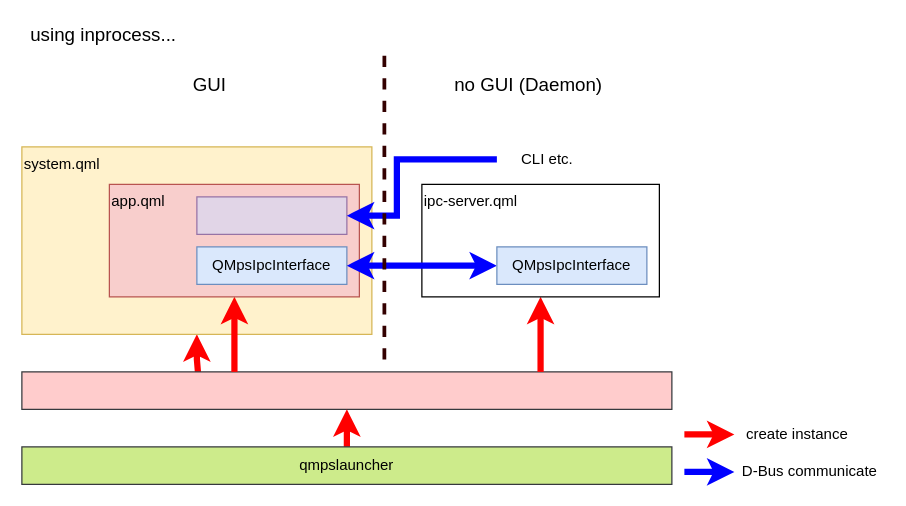
Some shapes in this 906 by 506 pixel diagram are drawn without their labels. The shapes that lost their labels are listed below. From the top down, each one's centre as x and y in pixels, then its label:
At [271,215]: "QMpsUriHandler".
At [346,390]: "QMpsApplicationManager".
